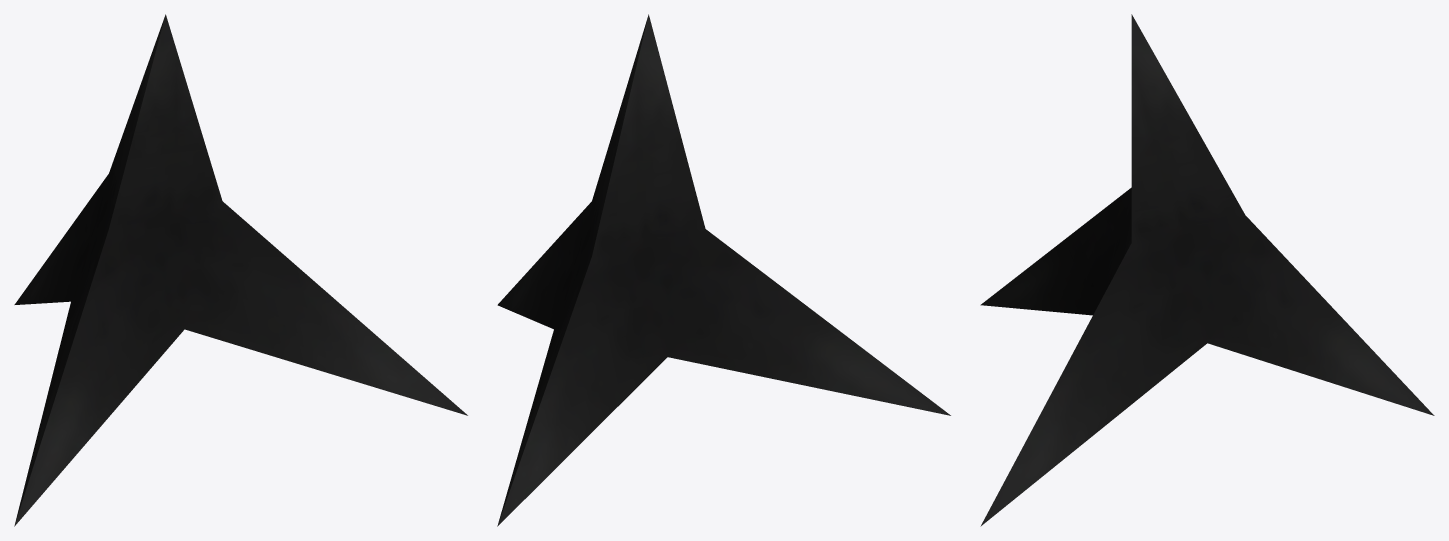
The model's file is makibisi1-1.fbx.
The picture shows the model from 3 angles, left to right: view 1: azimuth 30°, elevation 25°; view 2: azimuth 150°, elevation 25°; view 3: azimuth 270°, elevation 25°; orthographic projection.
Parts seen in each view (by area): view 1: bdef:obj2; view 2: bdef:obj2; view 3: bdef:obj2.
Boxes of the visible parts, x1,y1,x2,y2 form: bdef:obj2: (14, 14, 467, 526); bdef:obj2: (497, 14, 950, 526); bdef:obj2: (980, 14, 1434, 526).
Size of the model in its own units: 4.73 by 4 by 4.1.
